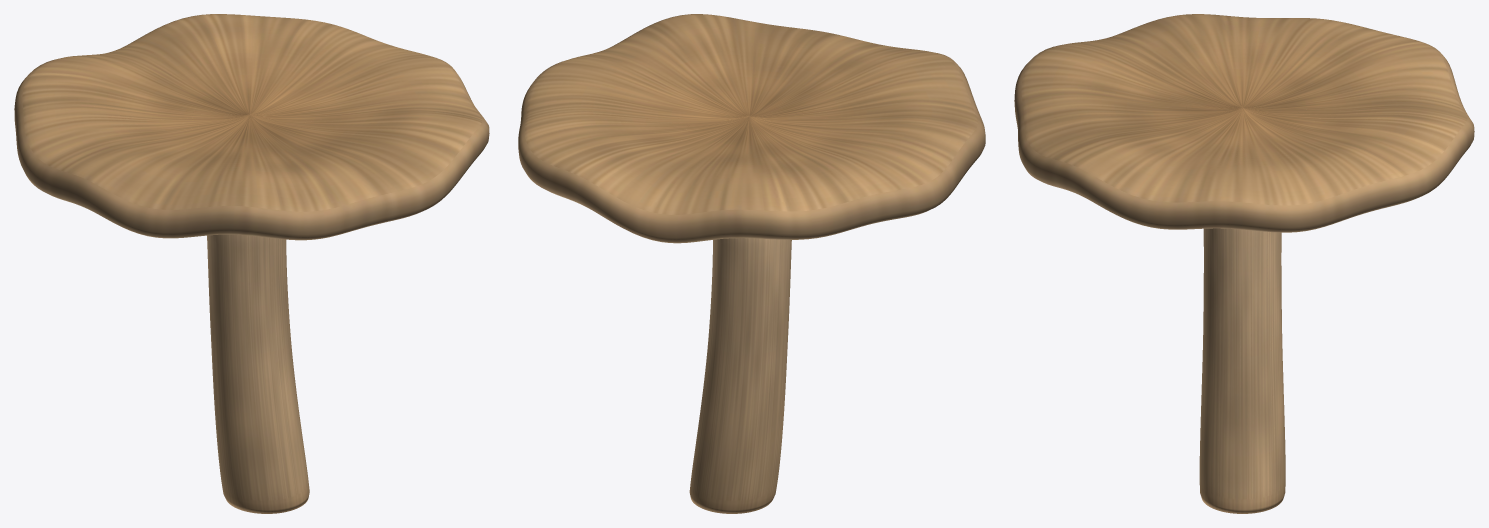
File: lactarius-helvus-drawn.glb
The picture shows the model from 3 angles, left to right: view 1: azimuth 30°, elevation 25°; view 2: azimuth 150°, elevation 25°; view 3: azimuth 270°, elevation 25°; orthographic projection.
Size of the model in its own units: 0.783 by 0.7283 by 0.7711.
1 material, 1 textured.
